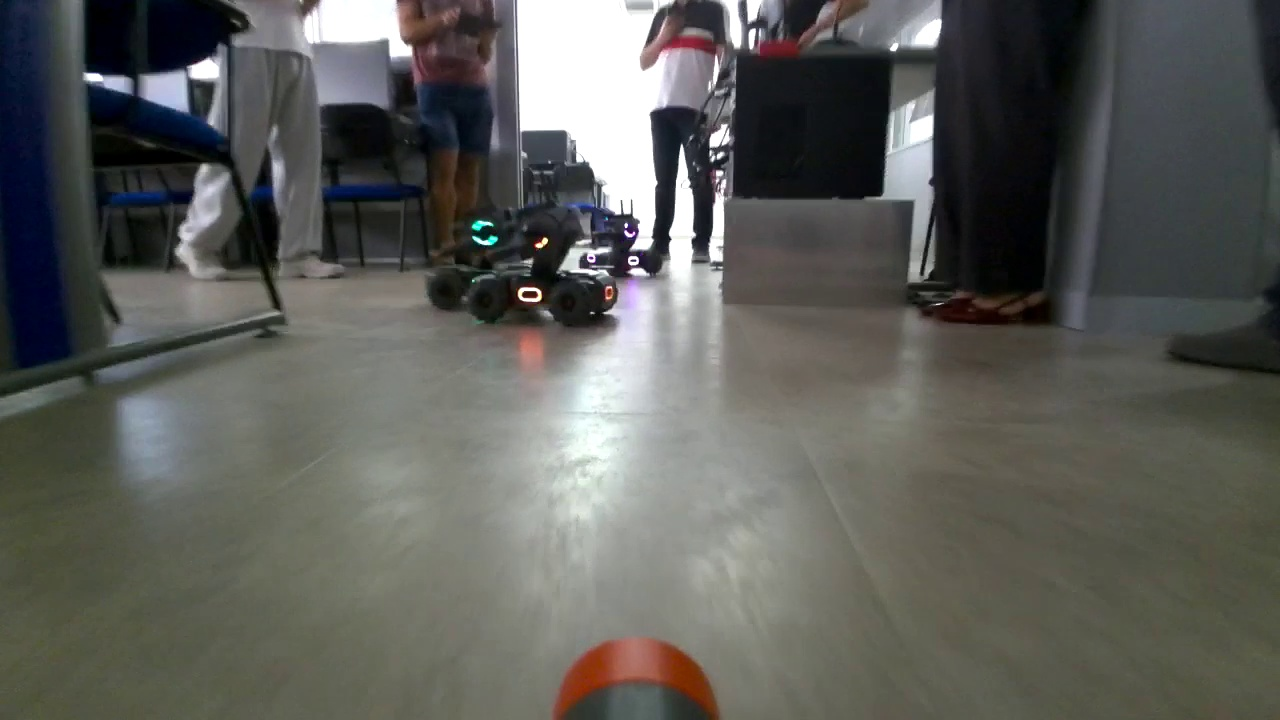robot: (466, 191, 620, 320), (426, 203, 536, 305), (580, 200, 660, 277)
